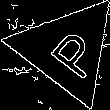P_NW: (34, 20, 100, 80)
